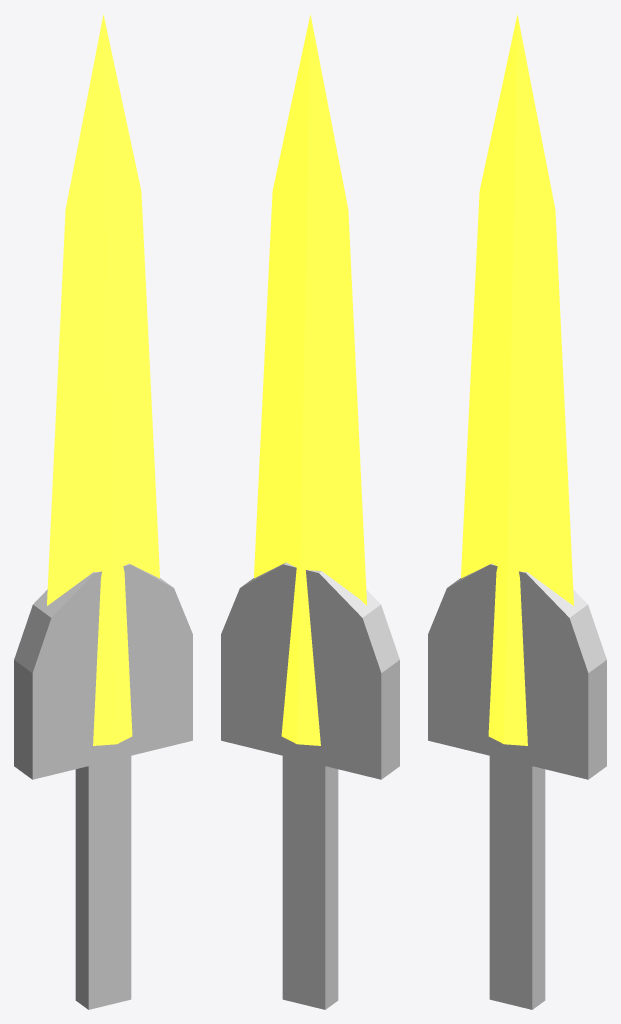
File: logic_sword.fbx
3 views of the same model, side by side, from view 1: azimuth 30°, elevation 25°; view 2: azimuth 150°, elevation 25°; view 3: azimuth 330°, elevation 25° (orthographic).
Visible parts, largest first — view 1: Sword, AND Gate; view 2: Sword, AND Gate; view 3: Sword, AND Gate.
Part boxes in pixels (x1,y1,x2,y2): Sword: [47, 14, 159, 1009]; AND Gate: [14, 563, 192, 779]; Sword: [254, 14, 366, 1009]; AND Gate: [221, 562, 399, 779]; Sword: [461, 14, 573, 1009]; AND Gate: [428, 563, 606, 779].
Bounding box in the file's own units: 0.2101 × 1.23 × 0.061.
